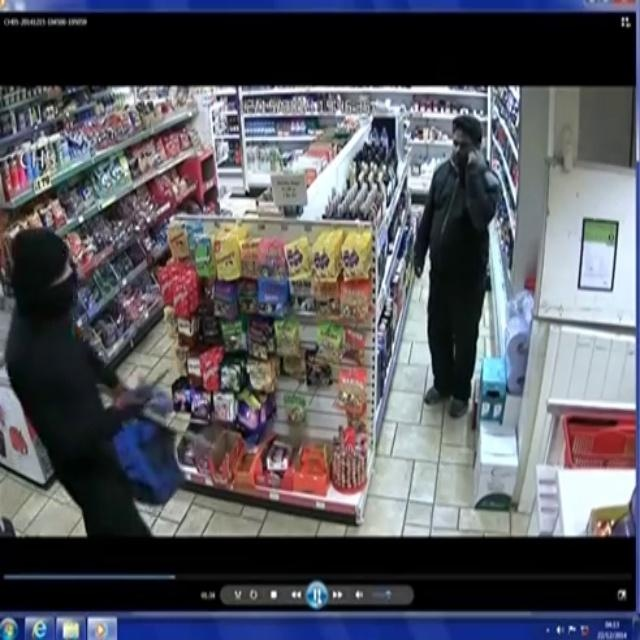gun: (125, 361, 191, 410)
